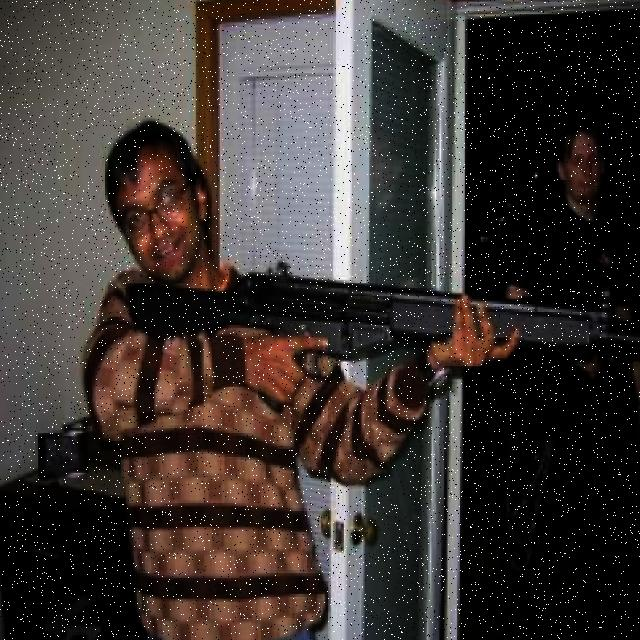Rifle: (126, 261, 640, 416)
